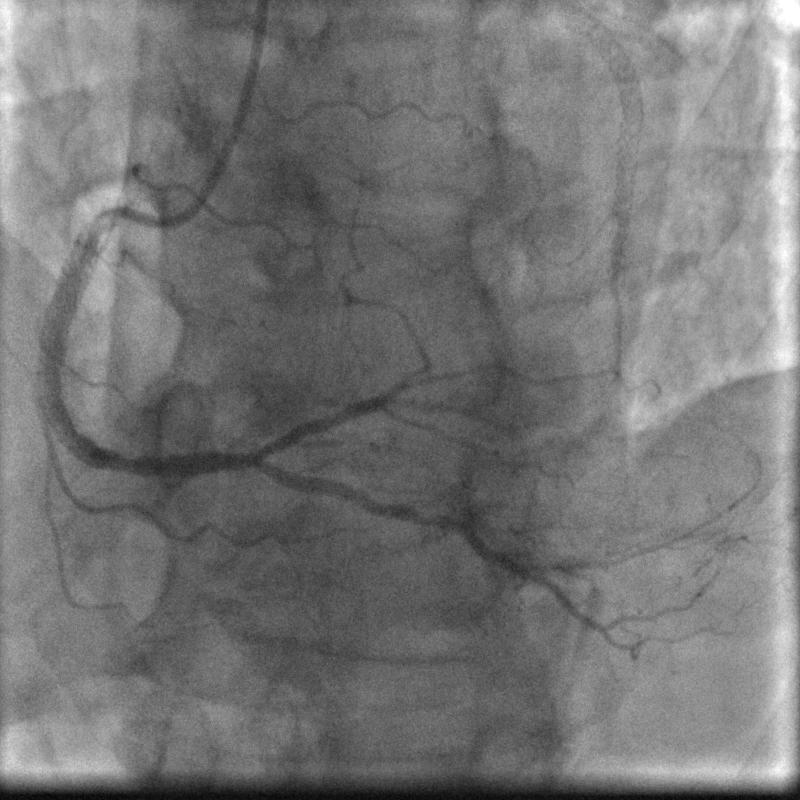Stenosis: (93, 194, 154, 240)
